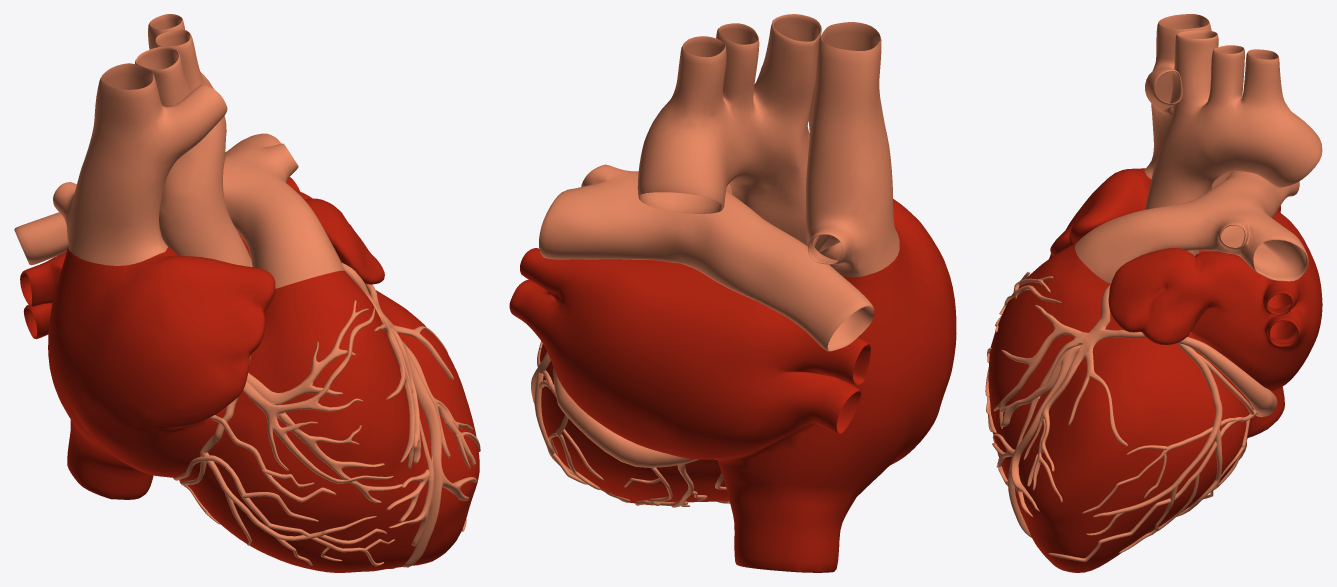
3 renders of one model, left to right at view 1: azimuth 30°, elevation 25°; view 2: azimuth 150°, elevation 25°; view 3: azimuth 270°, elevation 25°, orthographic. The views are drawn at different scales.
Parts seen in each view (by area): view 1: сердце; view 2: сердце; view 3: сердце.
Part boxes in pixels (left/top/right/bottom): сердце: left=14, top=14, right=480, bottom=572; сердце: left=509, top=14, right=956, bottom=572; сердце: left=985, top=14, right=1322, bottom=572.
Bounding box in the file's own units: 0.0374 × 0.051 × 0.0343.
